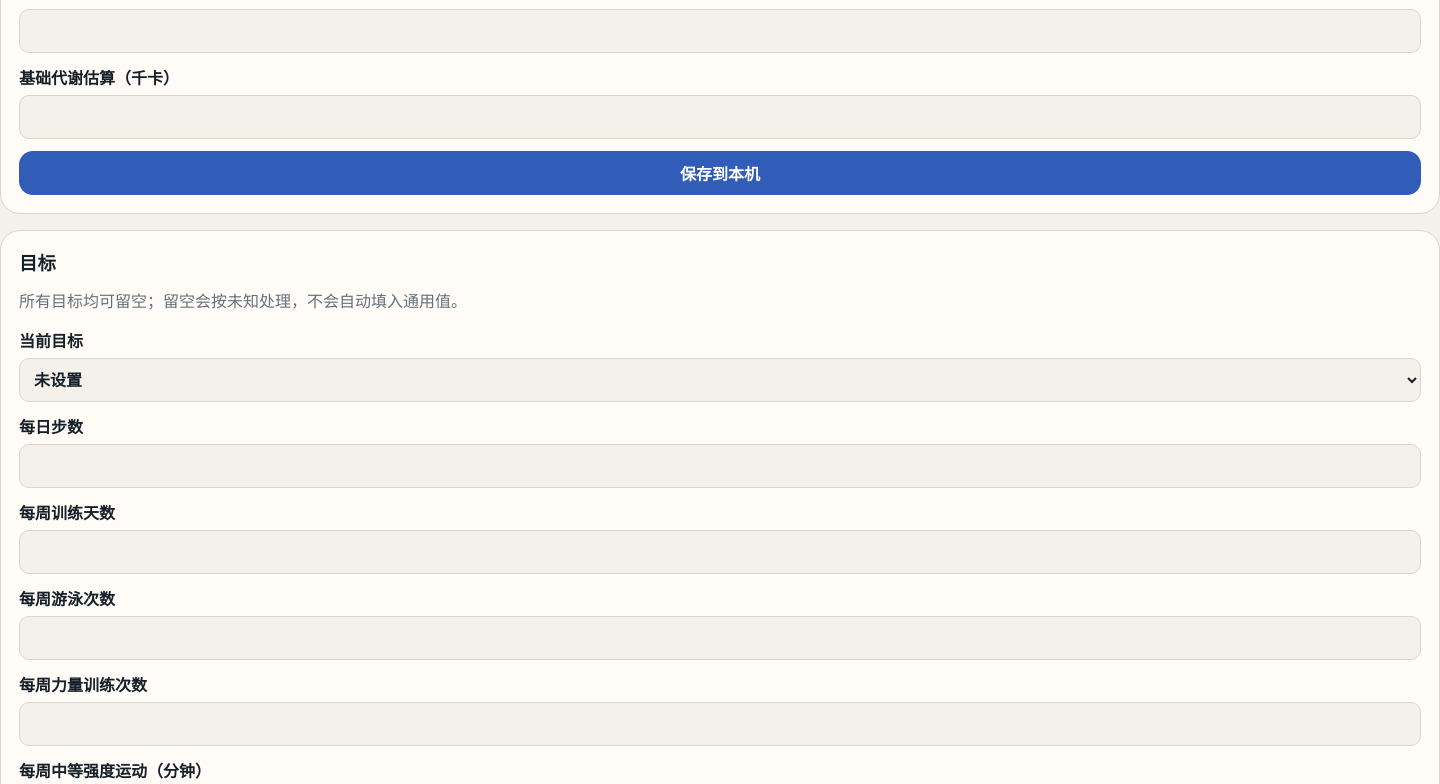
Scenario: confirms that analysis goals remain saved after data refresh
This screenshot has width=1440, height=784.
(page scrolled)
Select "一般体能" in the dropdown labelled "当前目标" at (720, 380), box x1=19 y1=358 x2=1421 y2=402
(page scrolled)
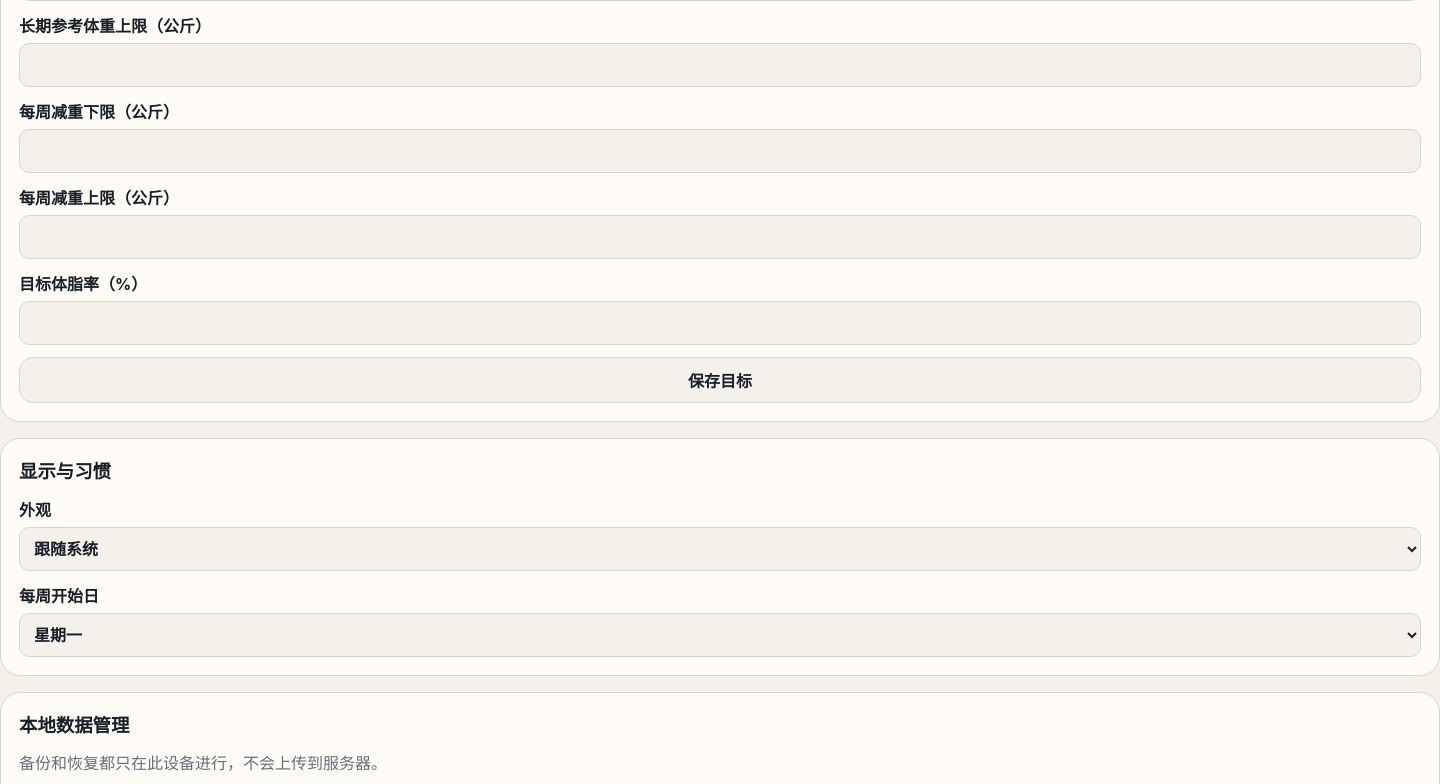
Click the button "保存目标" at (720, 380), box x1=19 y1=357 x2=1421 y2=403
(page scrolled)
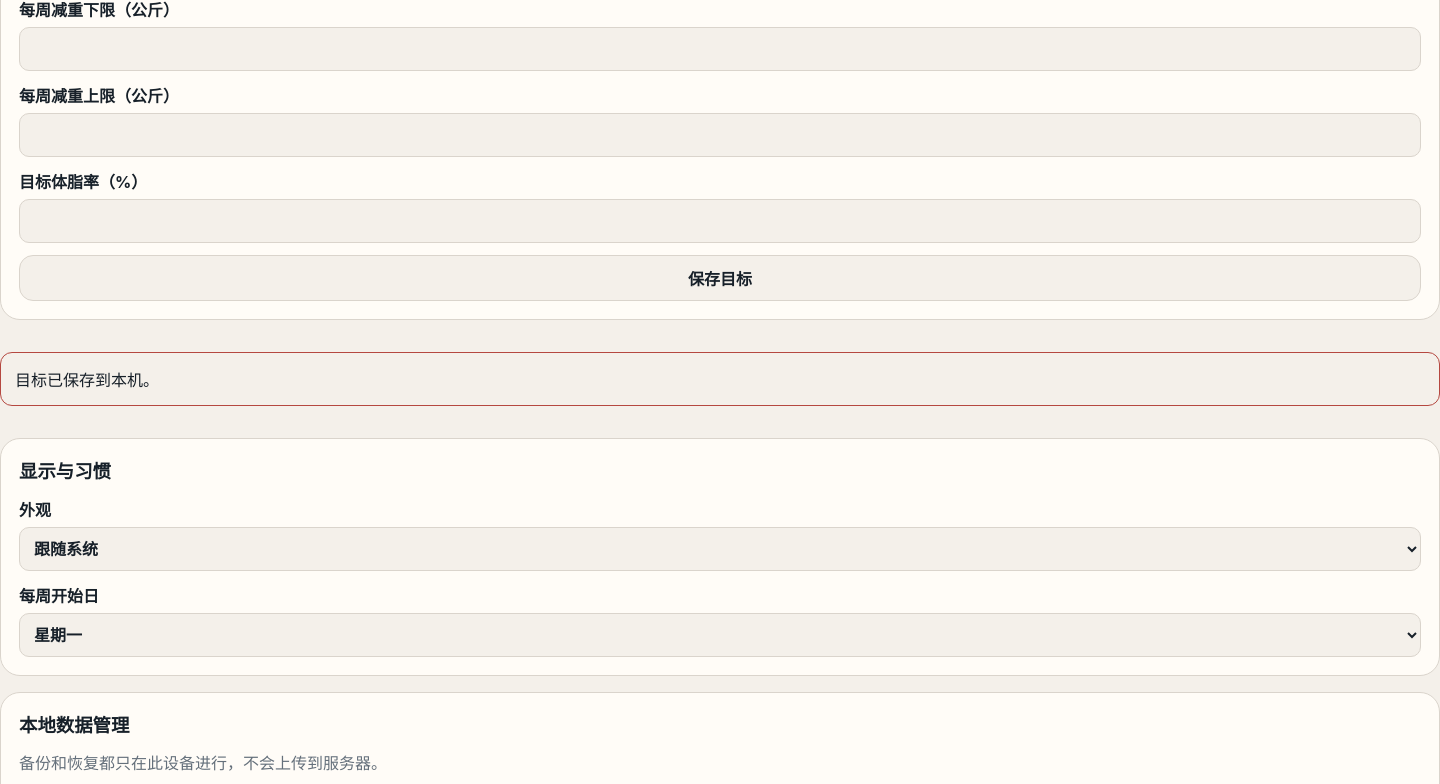
Now the message reads "目标已保存到本机。", box x1=15 y1=370 x2=159 y2=390
